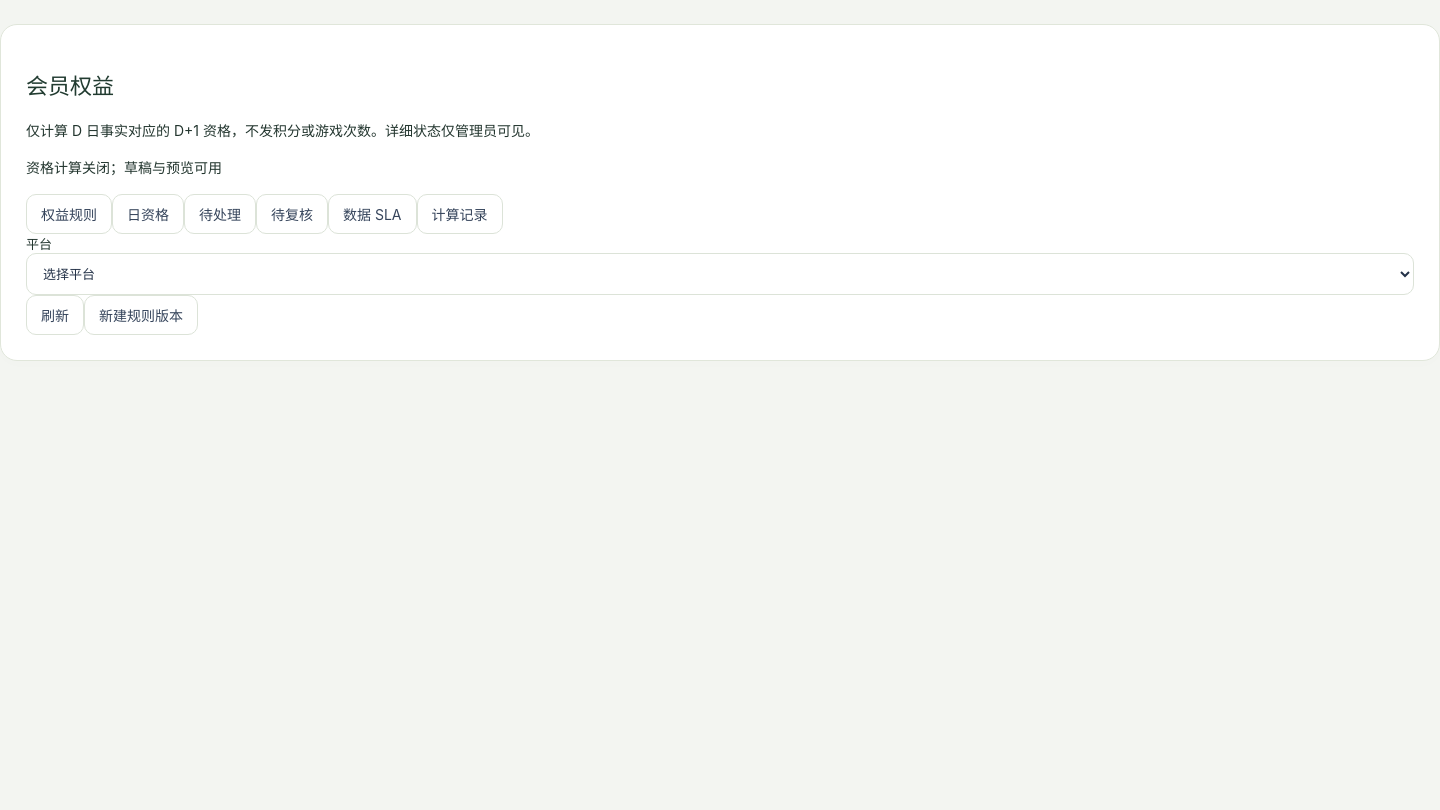
Test: new draft does not publish itself and independent rule permission is required
Expected: the text "资格计算关闭；草稿与预览可用" is shown, [26,159,222,176]
What coordinates should you click on to do the following:
click the button "新建规则版本"
I would click on:
 (141, 315)
Its box is [84,295,198,335].
(page scrolled)
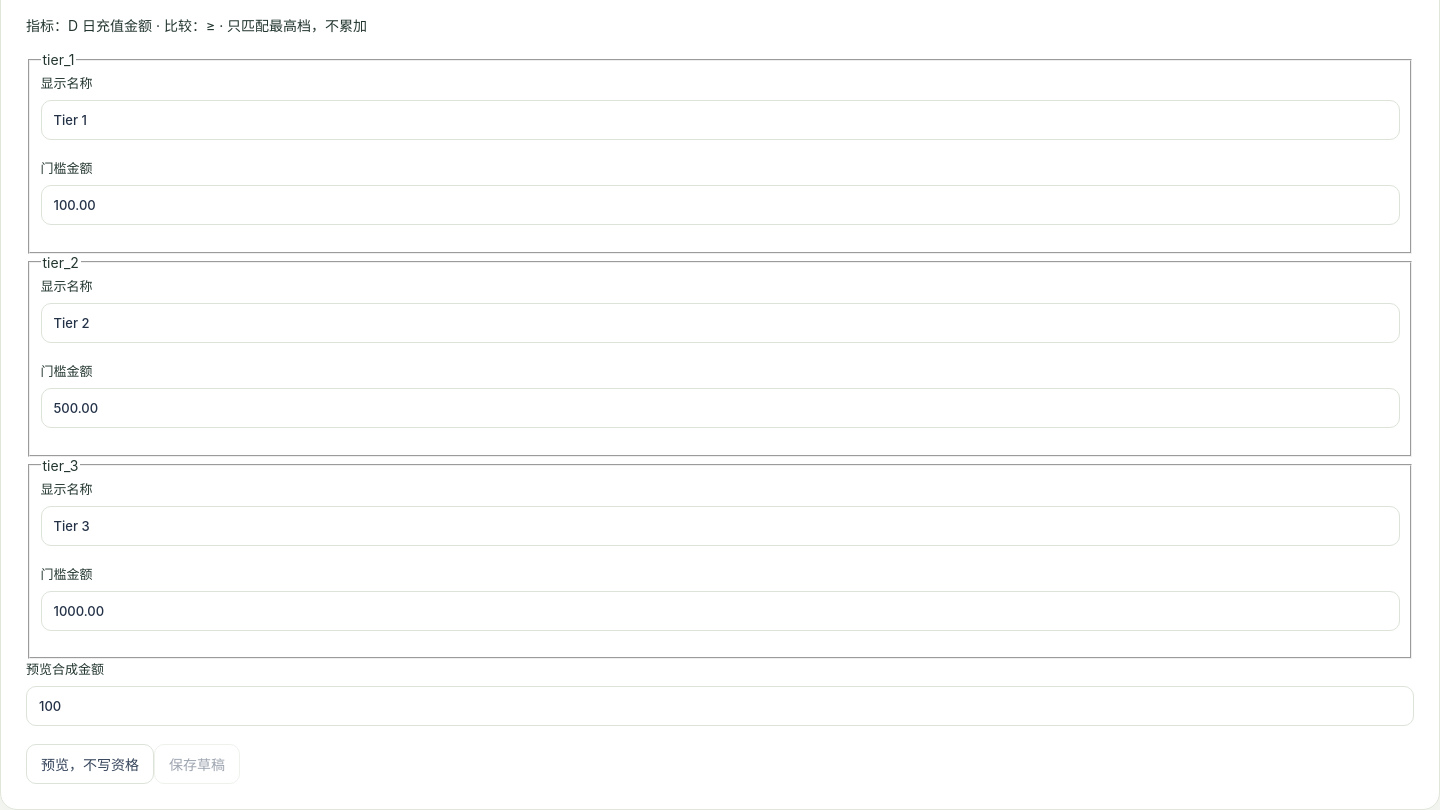
Now the button "预览，不写资格" is shown, box [26,744,154,784]
Now the button "保存草稿" is shown, box [154,744,240,784]
